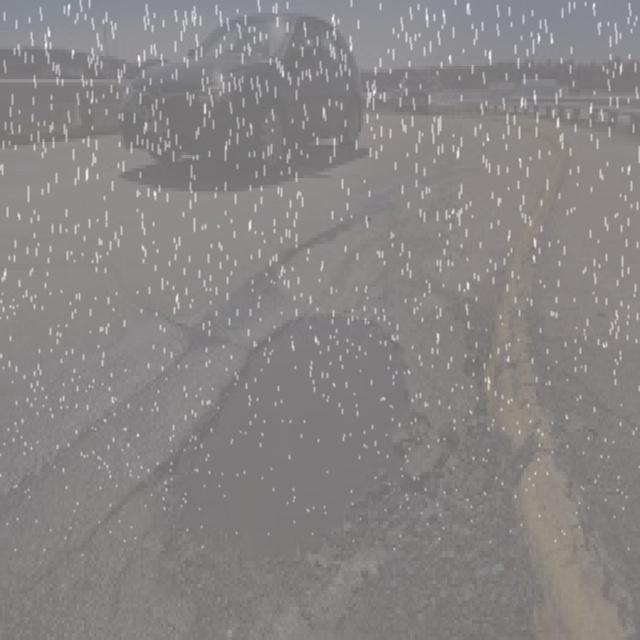Pothole: (136, 300, 437, 634)
